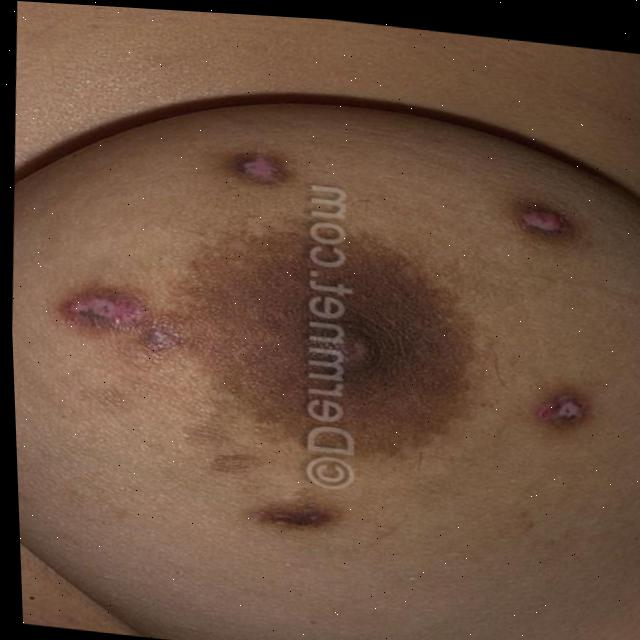Eczema: (222, 147, 298, 185), (560, 394, 597, 437), (88, 305, 134, 333), (526, 204, 558, 234), (287, 511, 313, 539)
